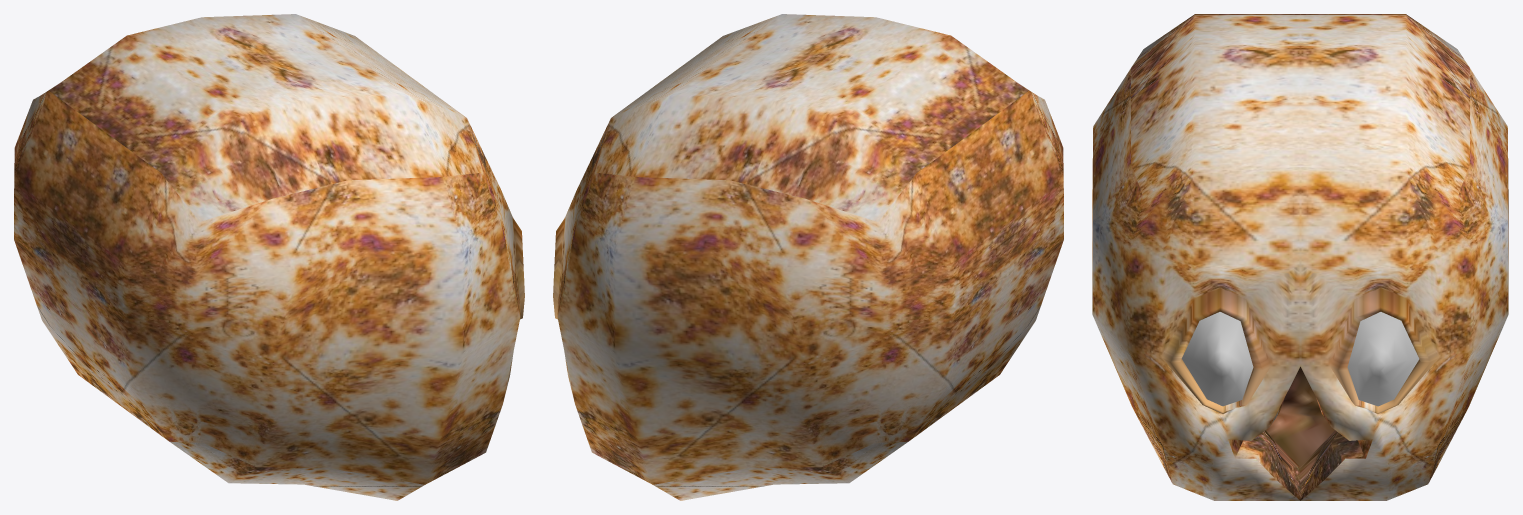
The model's file is mascothead.fbx.
3 views of the same model, side by side, from view 1: azimuth 30°, elevation 25°; view 2: azimuth 150°, elevation 25°; view 3: azimuth 270°, elevation 25° (orthographic). The views are drawn at different scales.
Visible parts, largest first — view 1: Cube; view 2: Cube; view 3: Cube.
Part boxes in pixels (<box>): Cube: <box>14,14,524,500</box>; Cube: <box>553,14,1063,500</box>; Cube: <box>1092,14,1508,500</box>.
Size of the model in its own units: 215 by 220 by 204.
